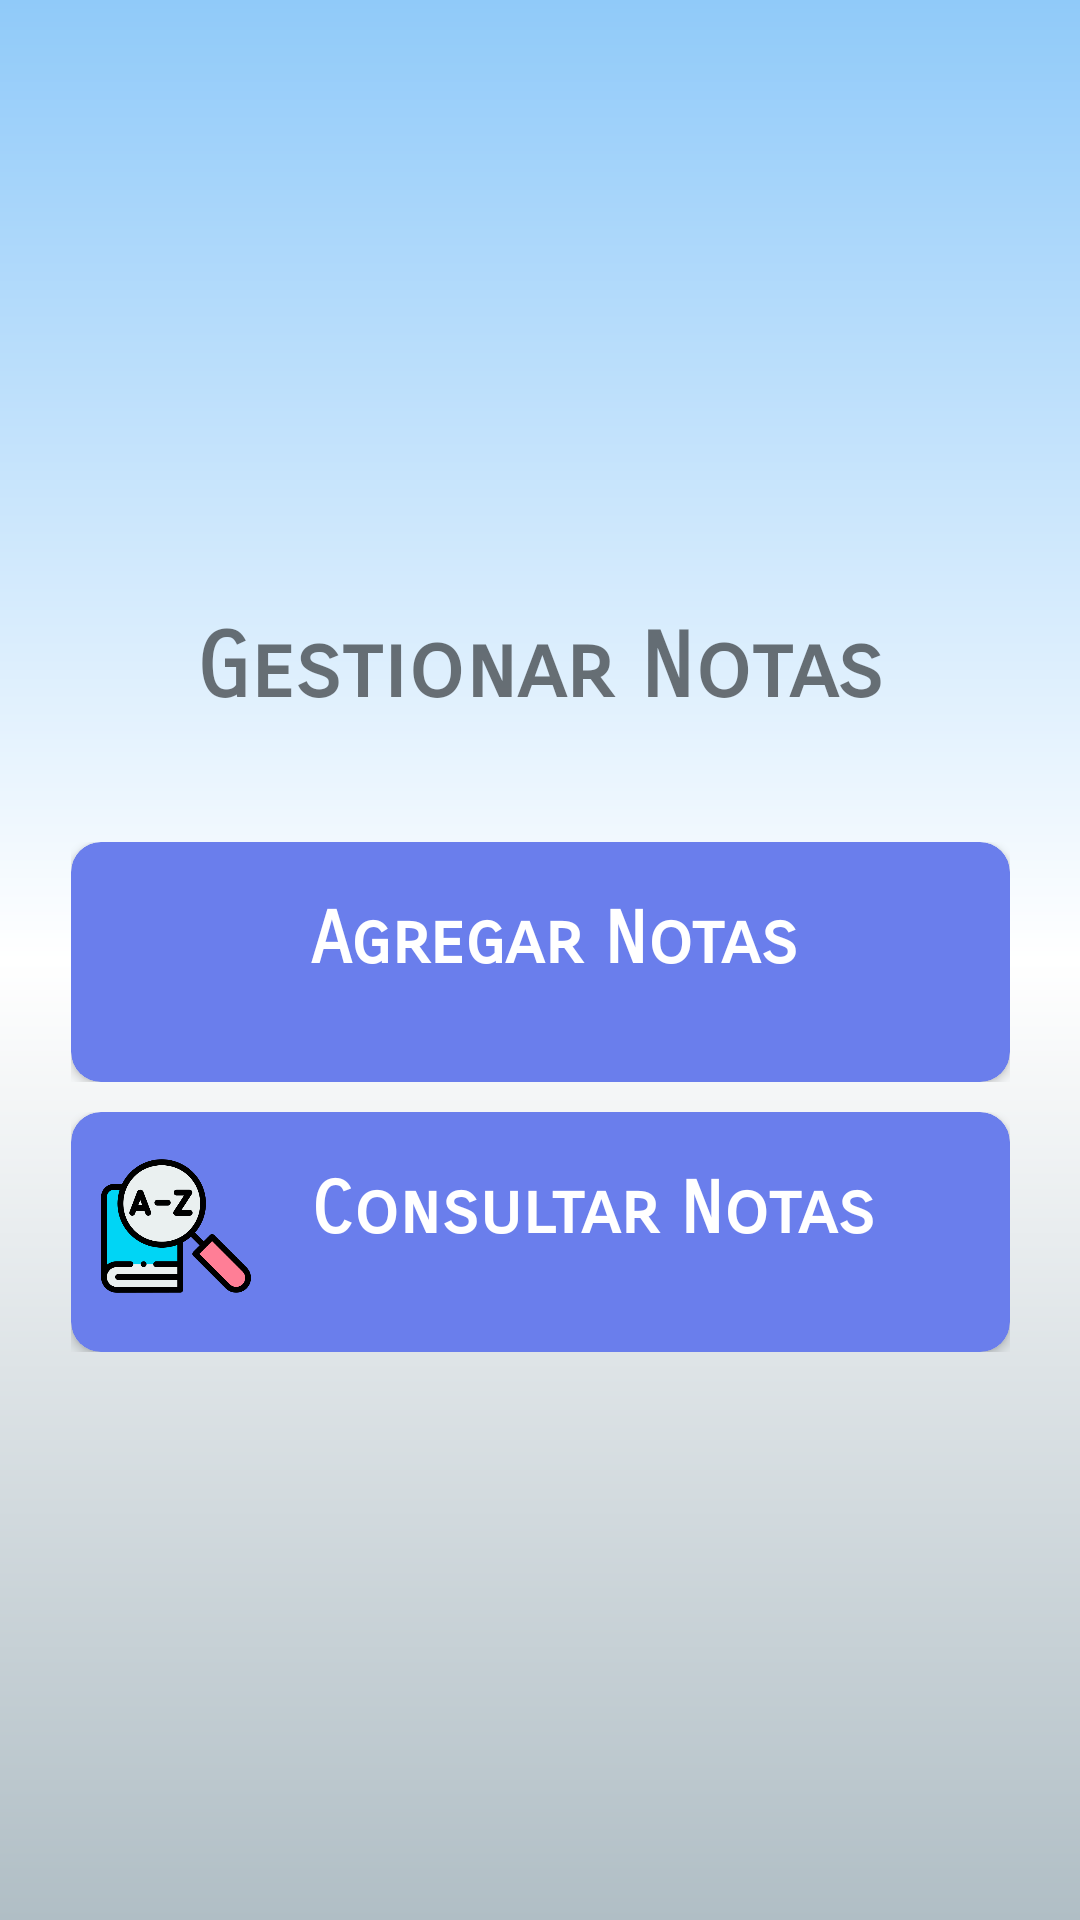

Screen size 1080x1920. Icon name, then its box in pixels as (x1, y1, x2, y2):
buscar: (101, 1159, 251, 1293)
